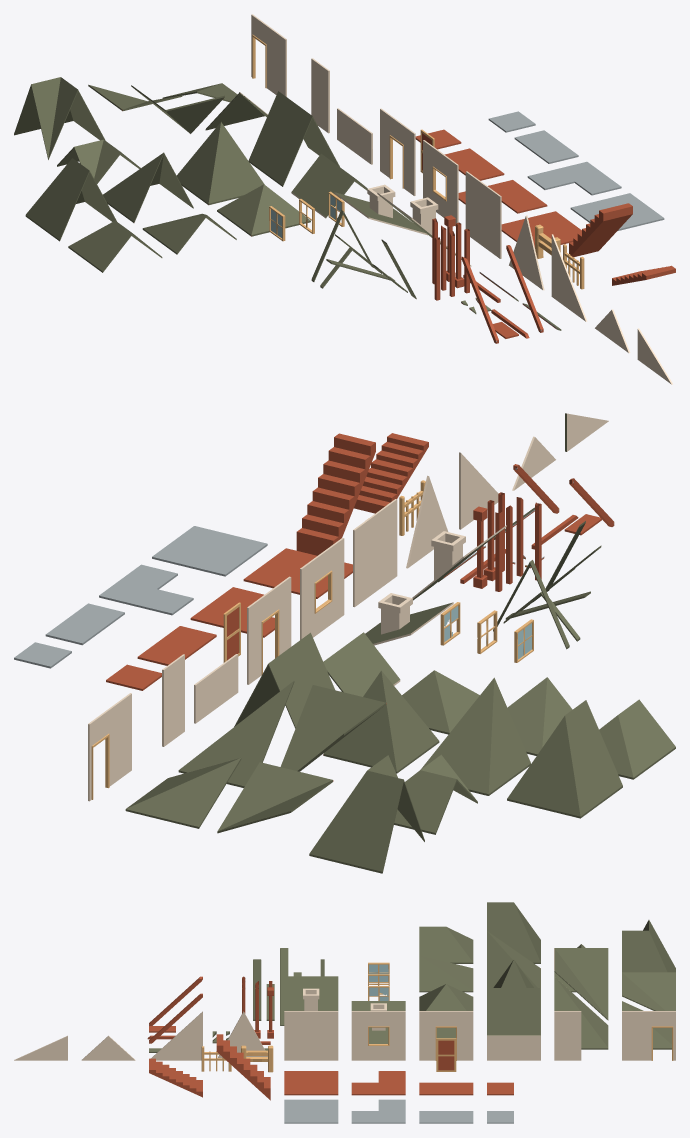
File: BuildingSetMonaBuiladthon.glb
3 views of the same model, one above another, from view 1: azimuth 30°, elevation 25°; view 2: azimuth 150°, elevation 25°; view 3: azimuth 270°, elevation 25° (orthographic). The views are drawn at different scales.
Visible parts, largest first — view 1: Roof_Steep_Pyramid, Roof_Steep_Triangle, Roof_Steep_Triangle_Corner, Roof_Steep_Ending_Half, Roof_Steep_Ending, Wall, Roof_Mild_Pyramid, Roof_Mild_Triangle, Wall_Window, Wall_Door_Center, Wall_Door_Side, Roof_Mild_Ending_Half (+25 smaller); view 2: Roof_Steep_Ending_Half, Roof_Steep_Triangle_Corner, Roof_Steep_Ending, Roof_Steep_Pyramid, Stairs_Steep, Roof_Steep_Corner_Inner, Roof_Mild_Corner_Outer, Roof_Mild_Corner_Inner, Roof_Steep_Corner_Outer, Roof_Steep_Triangle, Wall, Roof_Mild_Ending_Half (+29 smaller); view 3: Wall, Roof_Steep_Corner_Inner, Roof_Steep_Triangle, Wall_Window, Wall_Door_Center, Wall_Door_Side, Roof_Steep_Ending_Half, Roof_Steep_Triangle_Corner, Roof_Mild_Corner_Inner, Roof_Mild_Ending_Half, Roof_Steep_Corner_Outer, Roof_Steep (+28 smaller).
Boxes of the visible parts, x1,y1,x2,y2 form: Roof_Steep_Pyramid: (176,122,264,205); Roof_Steep_Triangle: (248,91,339,186); Roof_Steep_Triangle_Corner: (14,77,105,159); Roof_Steep_Ending_Half: (25,158,116,241); Roof_Steep_Ending: (103,152,193,222); Wall: (465,171,501,258); Roof_Mild_Pyramid: (217,184,310,236); Roof_Mild_Triangle: (291,153,367,218); Wall_Window: (423,140,458,226); Wall_Door_Center: (380,108,415,195); Wall_Door_Side: (251,14,286,96); Roof_Mild_Ending_Half: (68,220,162,272); Roof_Steep_Ending_Half: (507,700,622,818); Roof_Steep_Triangle_Corner: (309,755,424,873); Roof_Steep_Ending: (420,677,530,795); Roof_Steep_Pyramid: (323,670,439,773); Stairs_Steep: (296,433,375,555); Roof_Steep_Corner_Inner: (280,685,386,771); Roof_Mild_Corner_Outer: (125,758,241,828); Roof_Mild_Corner_Inner: (217,762,333,833); Roof_Steep_Corner_Outer: (178,681,294,787); Roof_Steep_Triangle: (234,632,334,728); Wall: (353,499,397,607); Roof_Mild_Ending_Half: (599,699,675,779); Wall: (284,1011,338,1060); Roof_Steep_Corner_Inner: (554,948,608,1020); Roof_Steep_Triangle: (487,988,540,1035); Wall_Window: (351,1011,405,1060); Wall_Door_Center: (419,1011,473,1060); Wall_Door_Side: (622,1011,675,1060); Roof_Steep_Ending_Half: (487,902,540,963); Roof_Steep_Triangle_Corner: (622,920,675,972); Roof_Mild_Corner_Inner: (622,972,675,1010); Roof_Mild_Ending_Half: (419,926,473,963); Roof_Steep_Corner_Outer: (554,977,608,1049); Roof_Steep: (284,976,338,1010).
Size of the model in its own units: 32 by 4.6 by 49.
Materials: 1 (1 with a texture image).
